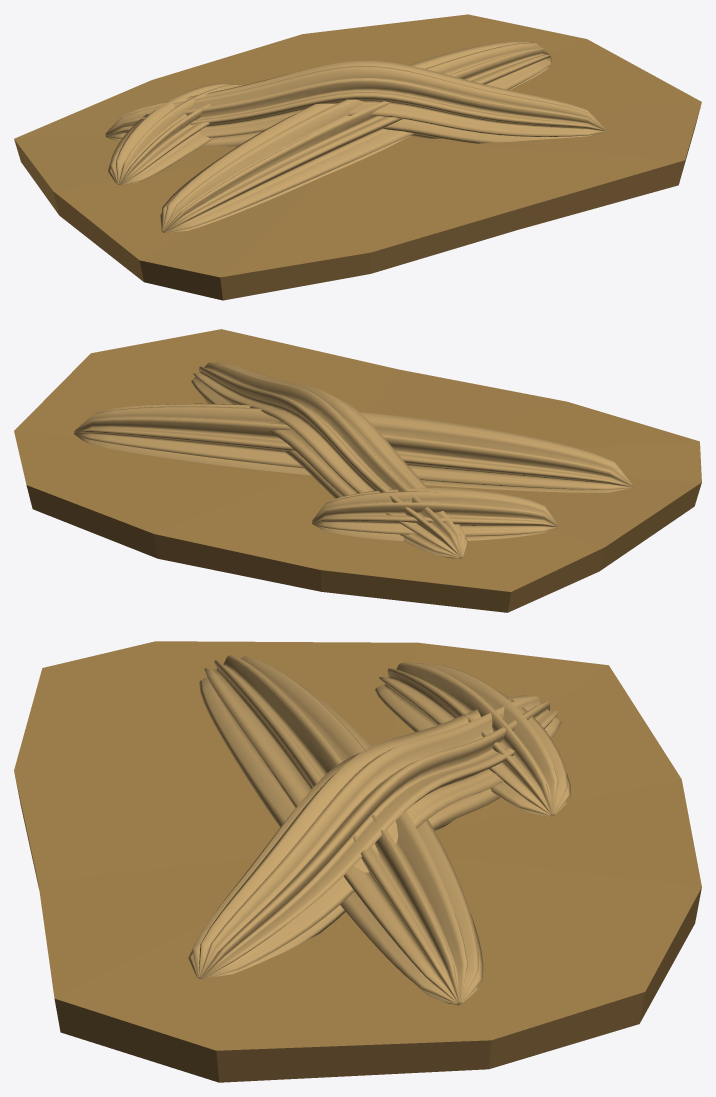
The model's file is halopoa-furrowed-burrow.glb.
The picture shows the model from 3 angles, top to bottom: view 1: azimuth 30°, elevation 25°; view 2: azimuth 150°, elevation 25°; view 3: azimuth 270°, elevation 25°; orthographic projection. The views are drawn at different scales.
Visible parts, largest first — view 1: one-closed-sandstone-bedding-slab, oblique-overlapping-probe, long-low-probe, short-offcenter-probe; view 2: one-closed-sandstone-bedding-slab, long-low-probe, oblique-overlapping-probe, short-offcenter-probe; view 3: one-closed-sandstone-bedding-slab, oblique-overlapping-probe, long-low-probe, short-offcenter-probe.
Boxes of the visible parts, <box> form: one-closed-sandstone-bedding-slab: <box>14,14,701,300</box>; oblique-overlapping-probe: <box>105,60,605,146</box>; long-low-probe: <box>160,41,551,232</box>; short-offcenter-probe: <box>108,83,242,185</box>; one-closed-sandstone-bedding-slab: <box>14,329,701,612</box>; long-low-probe: <box>74,403,632,492</box>; oblique-overlapping-probe: <box>191,362,468,558</box>; short-offcenter-probe: <box>312,488,558,541</box>; one-closed-sandstone-bedding-slab: <box>14,641,701,1082</box>; oblique-overlapping-probe: <box>188,695,561,979</box>; long-low-probe: <box>199,655,483,1005</box>; short-offcenter-probe: <box>374,662,571,816</box>.
Size of the model in its own units: 0.24 by 0.035 by 0.17.
